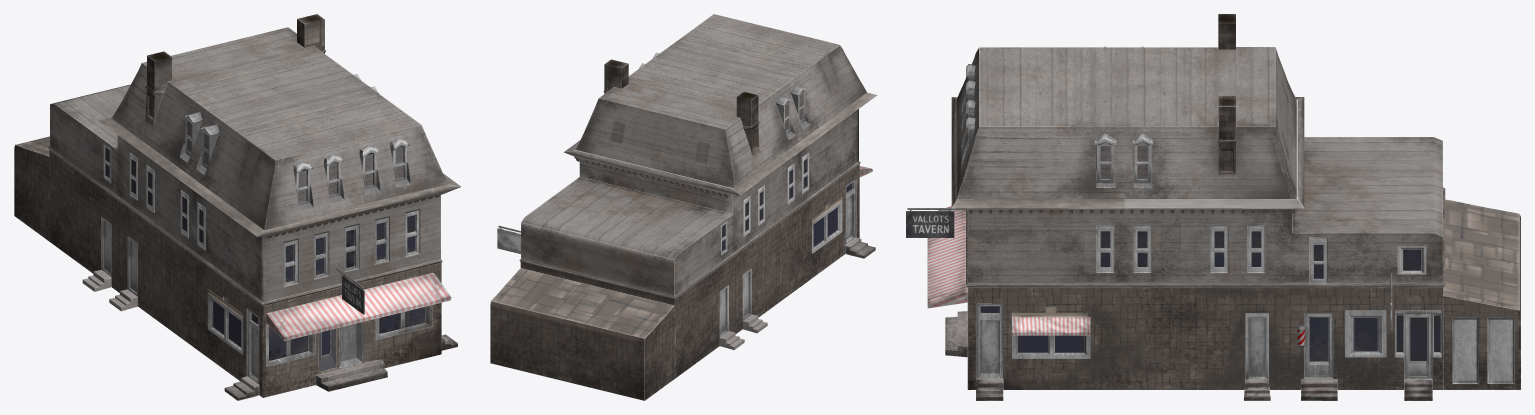
The model's file is VallotsTavern_April2026.glb.
3 views of the same model, side by side, from view 1: azimuth 30°, elevation 25°; view 2: azimuth 150°, elevation 25°; view 3: azimuth 270°, elevation 25° (orthographic). The views are drawn at different scales.
Parts seen in each view (by area): view 1: Vallots; view 2: Vallots; view 3: Vallots.
Part boxes in pixels (x1,y1,x2,y2): Vallots: (14,14,461,400); Vallots: (490,14,877,400); Vallots: (906,14,1520,400).
Bounding box in the file's own units: 127 × 122 × 242.
1 material, 1 textured.
